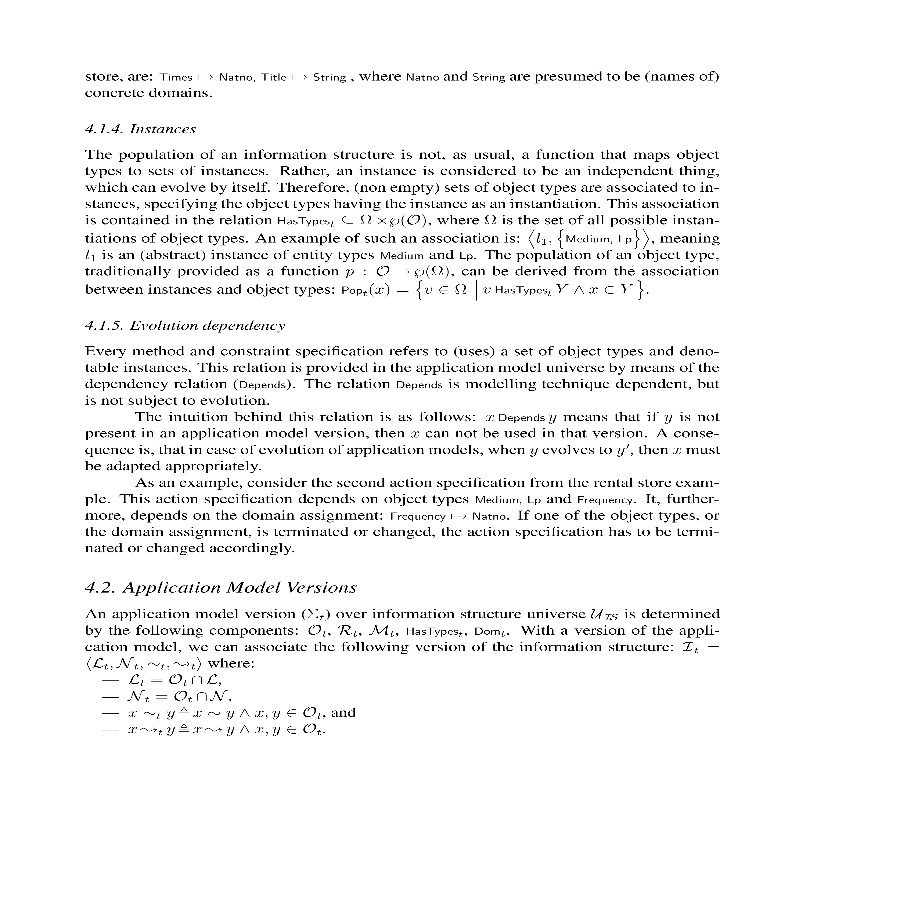eq: (128, 671, 321, 737)
